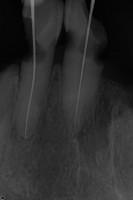Furcation Involvement: (75, 94, 112, 154)
